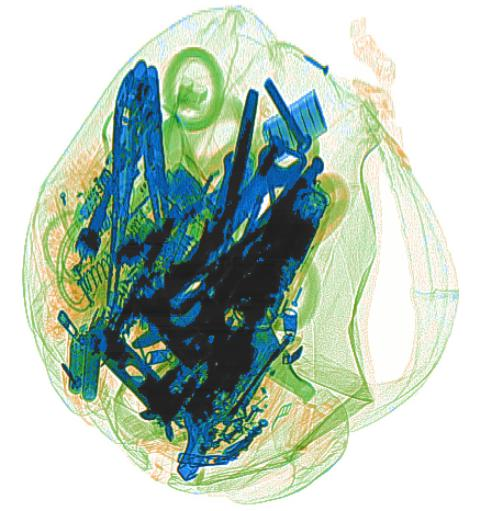battery: (260, 88, 330, 166), (65, 333, 101, 402)
